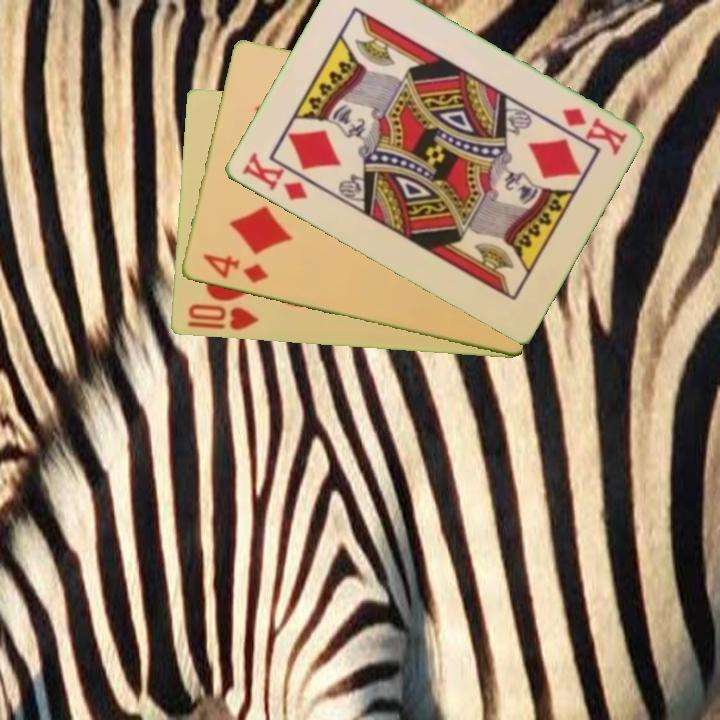10h: (184, 300, 261, 334)
4d: (198, 250, 271, 287)
Kd: (238, 149, 310, 204), (558, 104, 630, 158)
